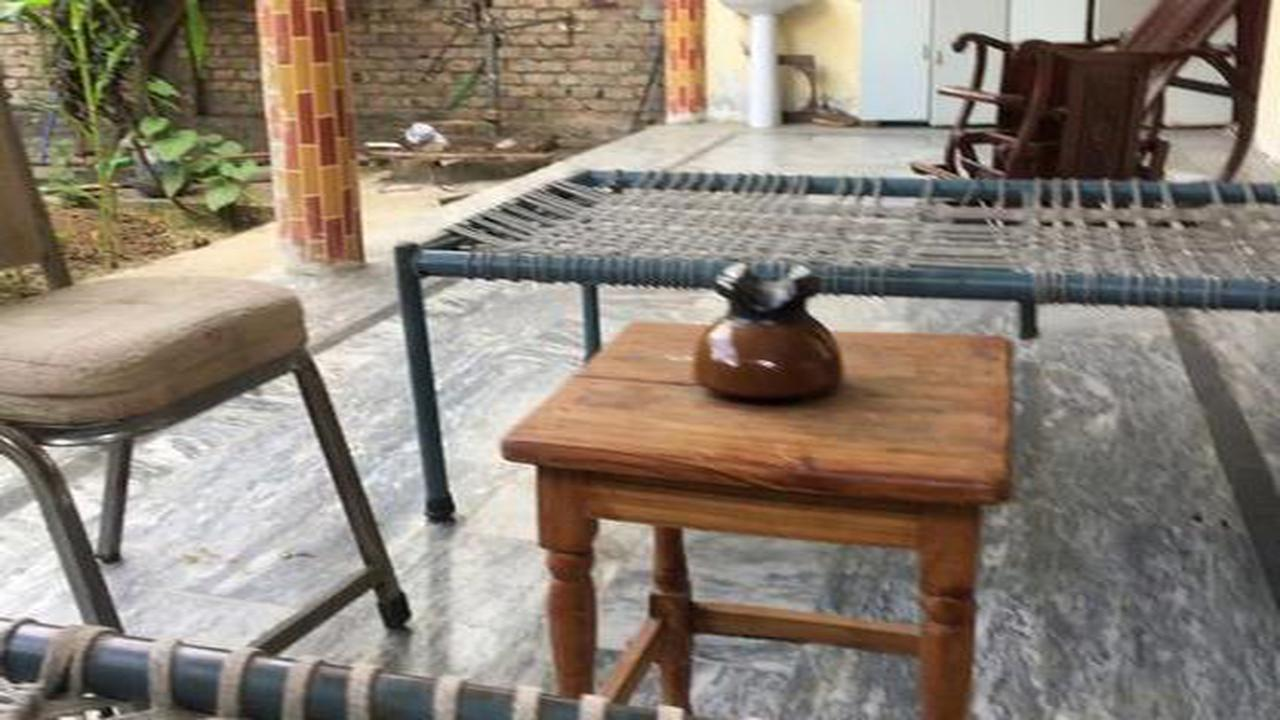insulator_pin: (671, 239, 865, 416)
